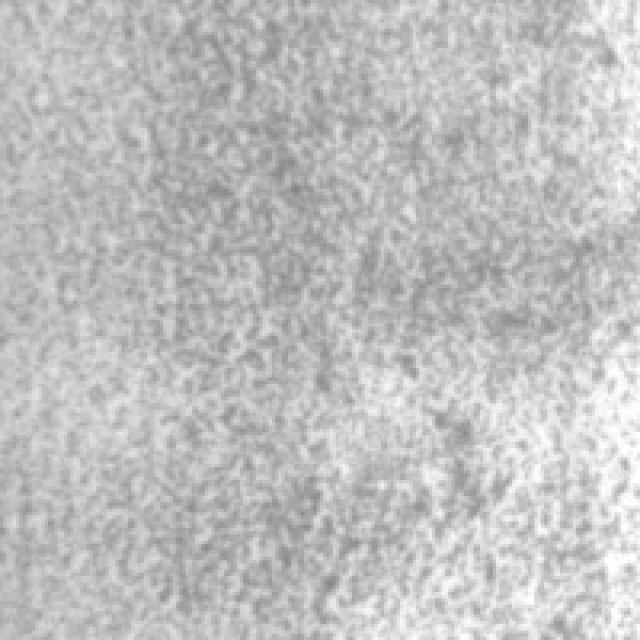pitted_surface: (13, 26, 630, 634)
